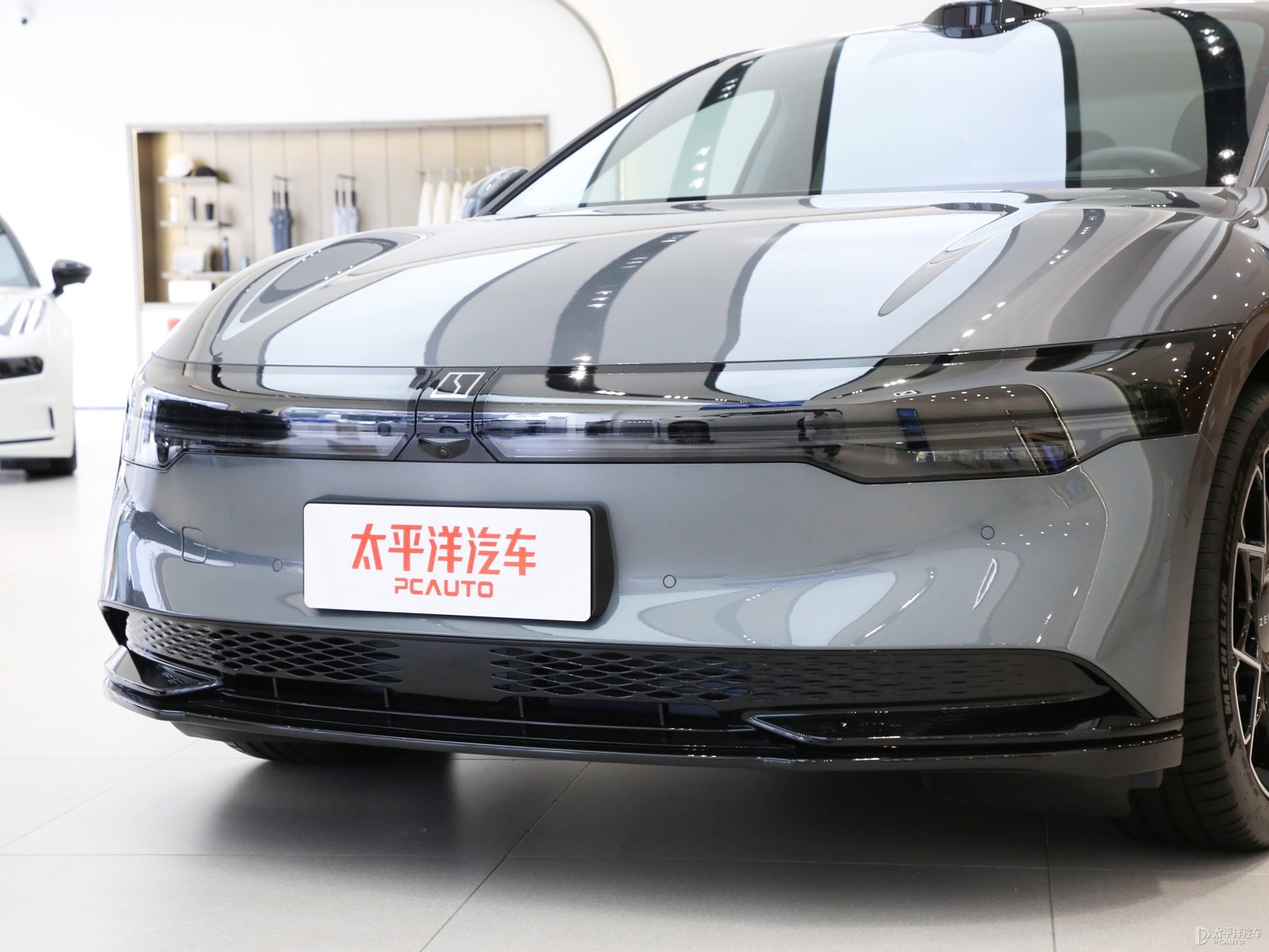ZEEKR: (430, 372, 484, 398)
